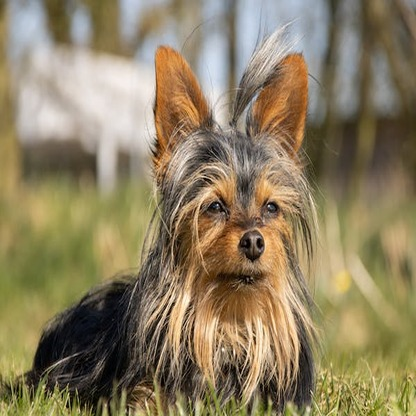yorkshire: (36, 38, 321, 413)
